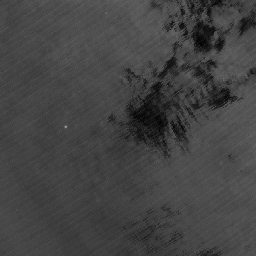Target: (62, 123, 68, 129)
